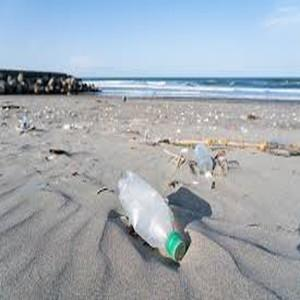Plastic: (118, 169, 190, 261)
